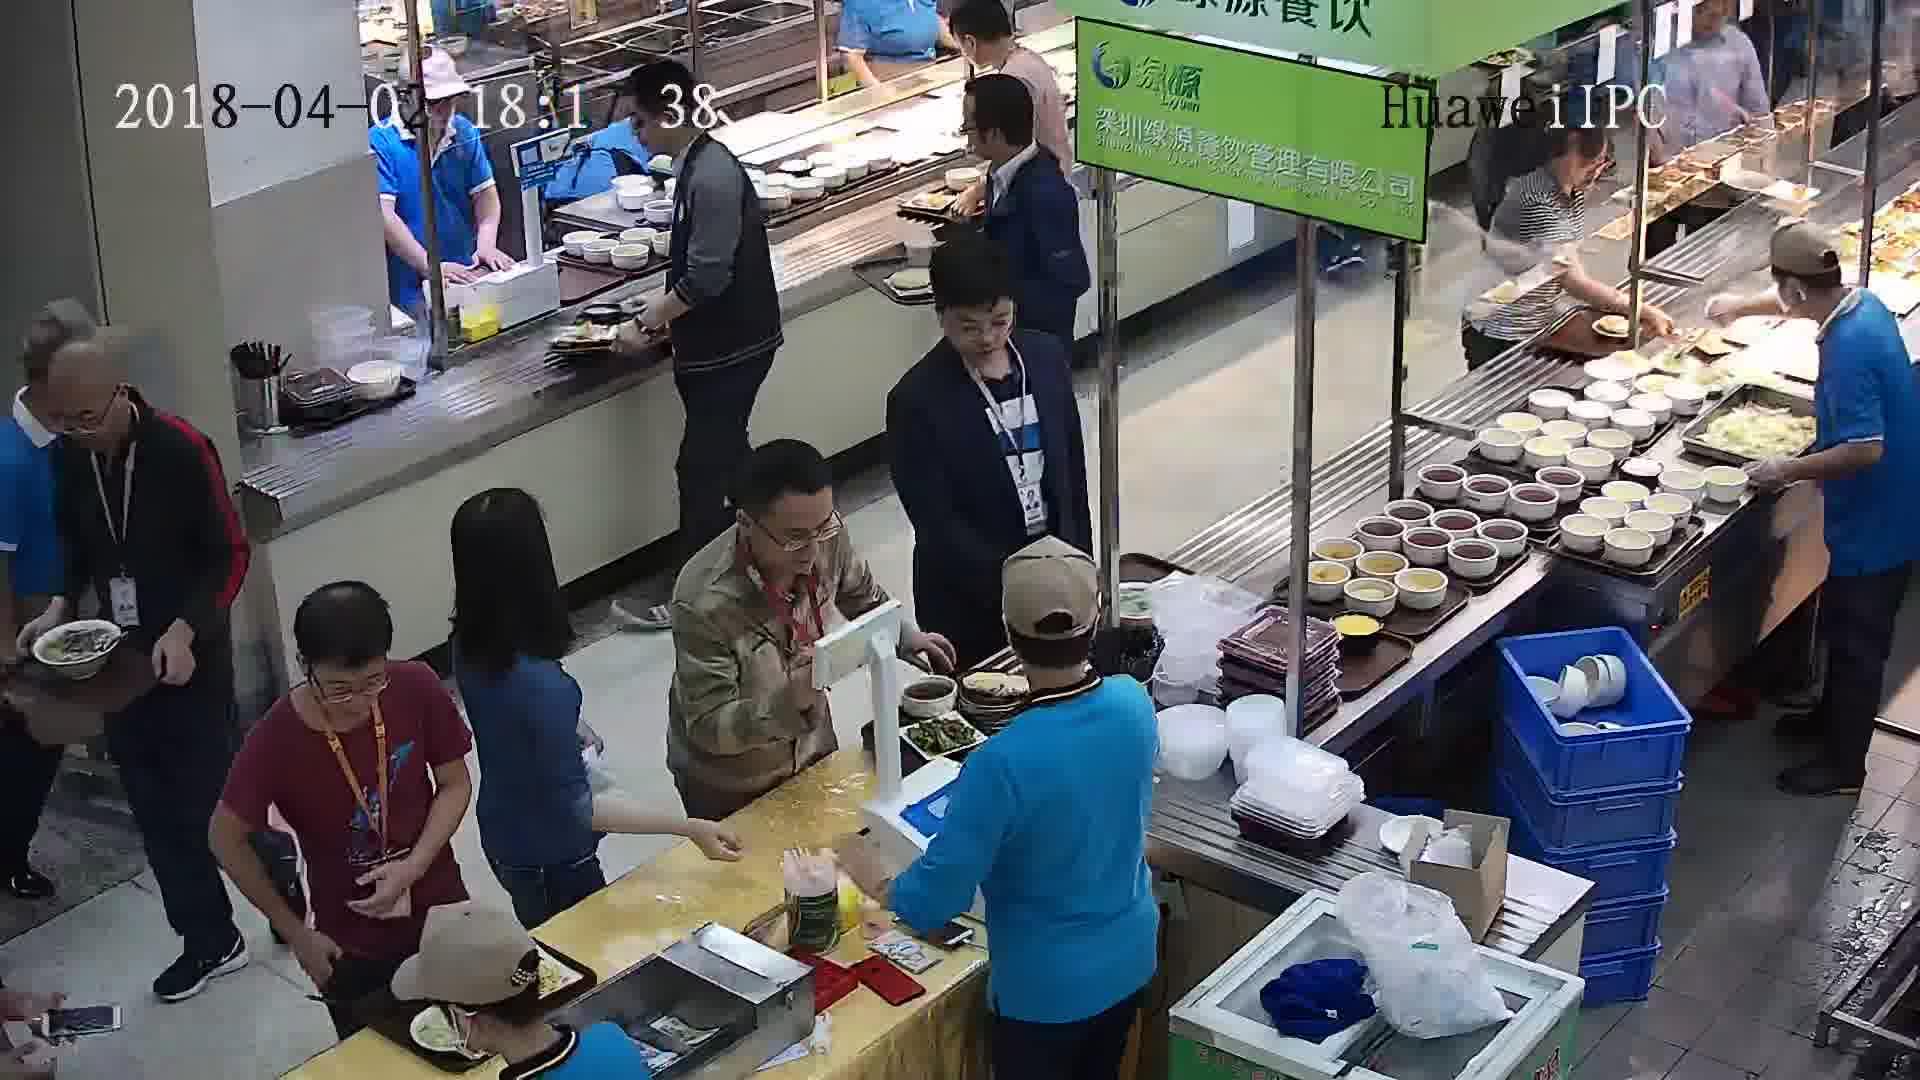face: (753, 493, 834, 574), (46, 382, 117, 453), (943, 90, 1012, 159), (946, 298, 1013, 365), (318, 659, 384, 725), (616, 96, 674, 153)
person: (966, 532, 1159, 811), (663, 437, 893, 657), (390, 899, 646, 1080), (238, 577, 454, 784), (5, 302, 222, 495), (410, 485, 580, 726), (886, 238, 1071, 437), (1758, 225, 1906, 377), (614, 59, 752, 207), (956, 77, 1075, 219), (376, 42, 494, 171), (941, 1, 1057, 92), (1505, 120, 1611, 217), (1660, 0, 1756, 69)
